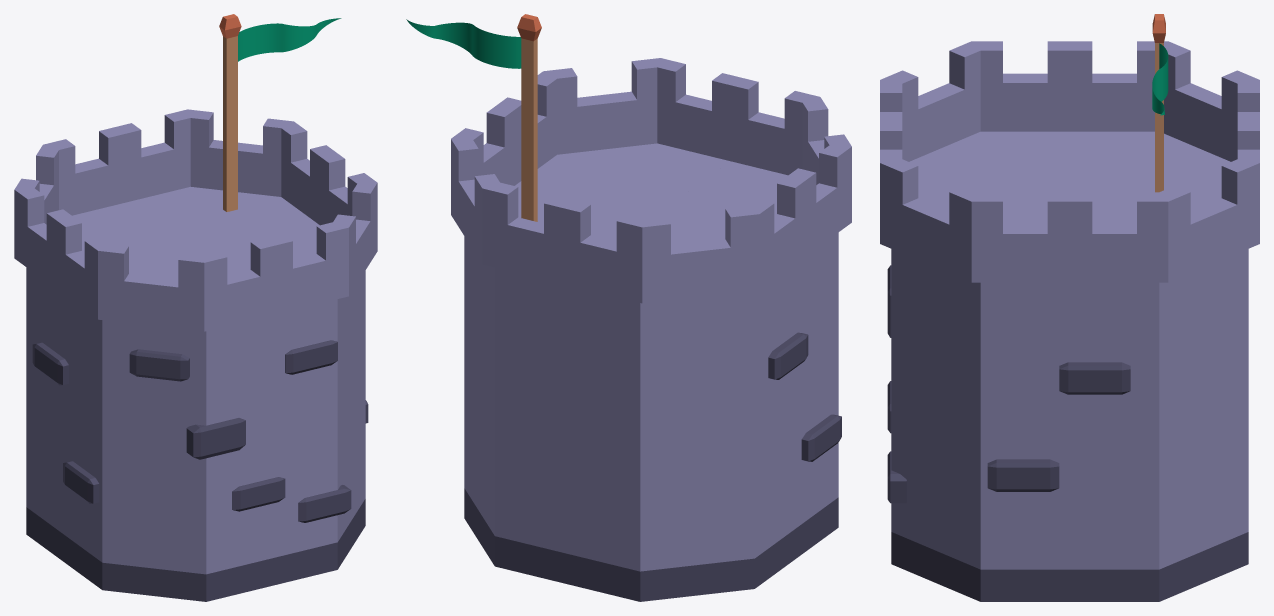
The model's file is tower.glb.
3 renders of one model, left to right at view 1: azimuth 30°, elevation 25°; view 2: azimuth 150°, elevation 25°; view 3: azimuth 270°, elevation 25°, orthographic. The views are drawn at different scales.
Parts seen in each view (by area): view 1: mergedBlocks(Clone); view 2: mergedBlocks(Clone); view 3: mergedBlocks(Clone).
Boxes of the visible parts, bbox=[...] form: mergedBlocks(Clone): bbox=[14, 14, 377, 601]; mergedBlocks(Clone): bbox=[406, 14, 851, 601]; mergedBlocks(Clone): bbox=[880, 14, 1259, 601].
Bounding box in the file's own units: 0.6156 × 0.85 × 0.5313.
